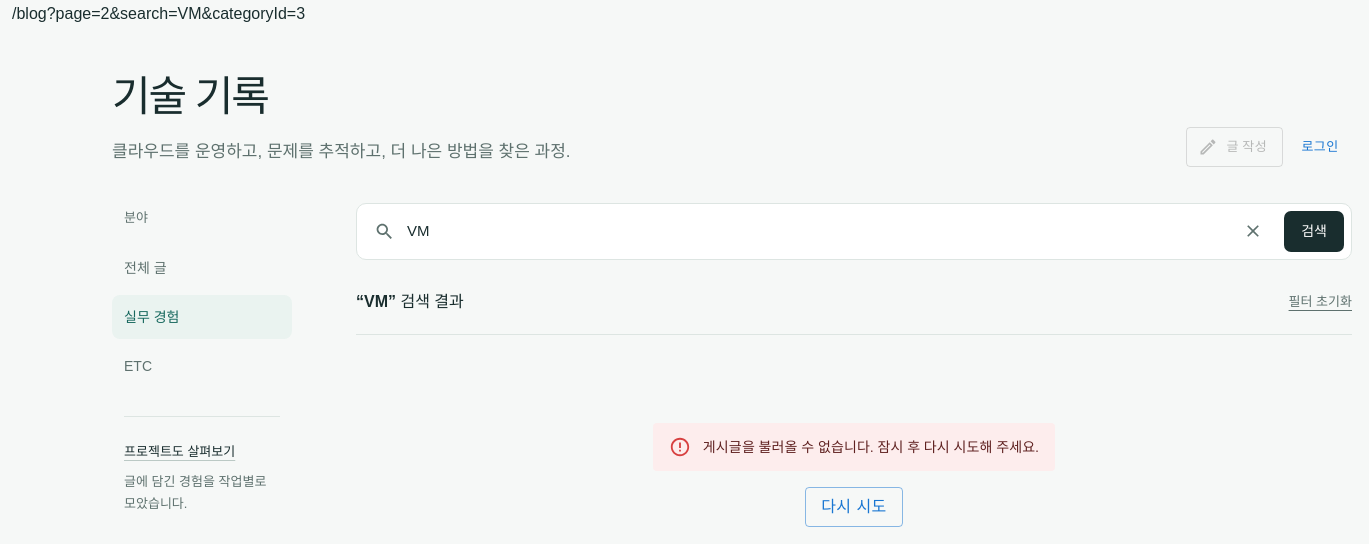
Test: a failed search can retry without dropping its URL filters
Check: the text "/blog?page=2&search=VM&categoryId=3" is shown, box [12,5,305,22]
Click the button "다시 시도". click: coordinates (854, 507)
box: [805,487,903,527]
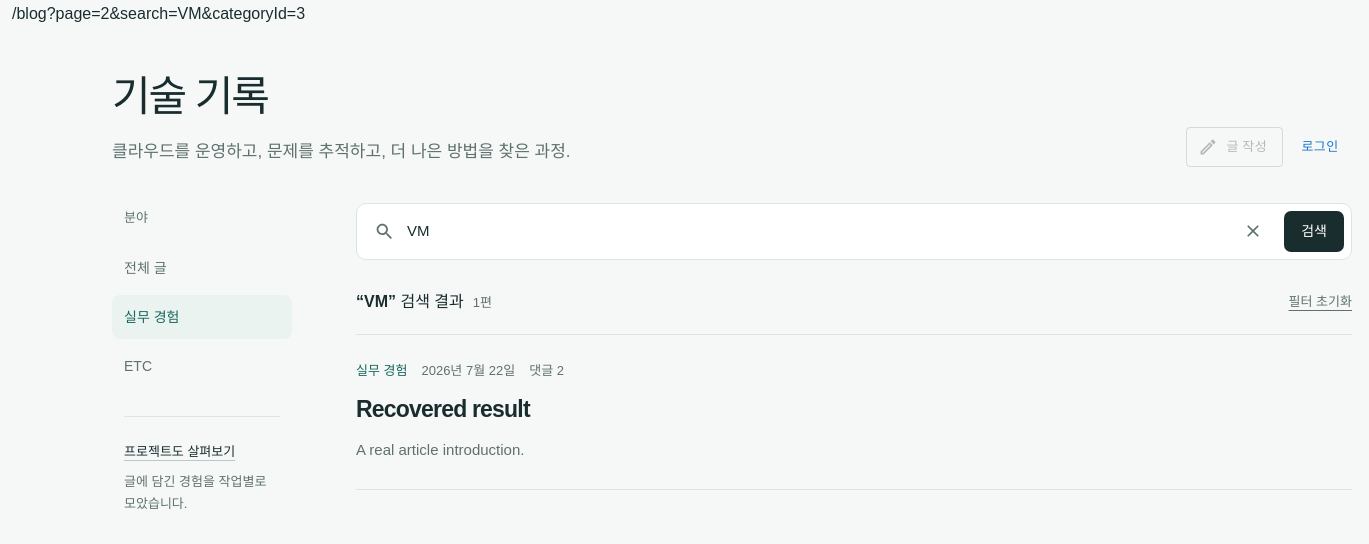
Check: the text "Recovered result" is shown, box [356,396,530,422]
